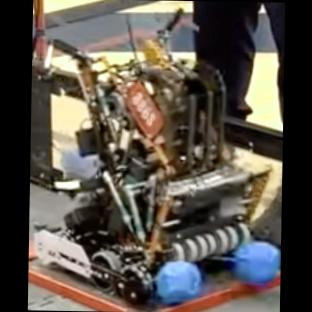Robot: (34, 40, 262, 301)
V5_BLUE: (231, 241, 280, 284), (154, 261, 201, 303)
